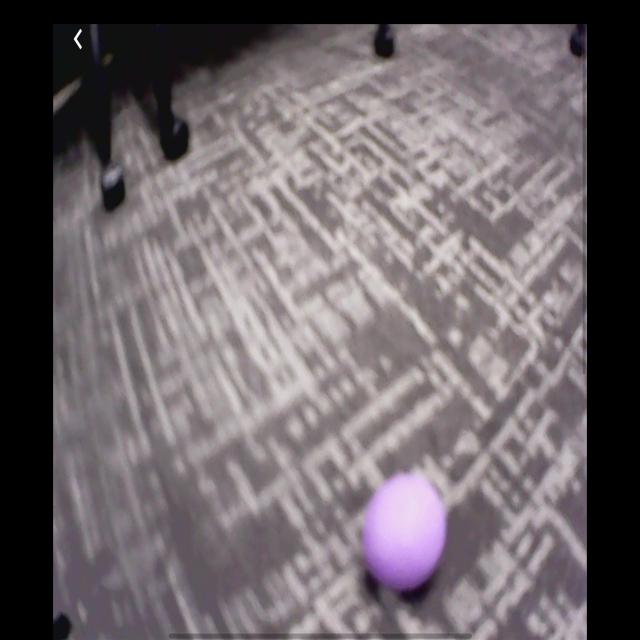ball: (365, 475, 449, 593)
